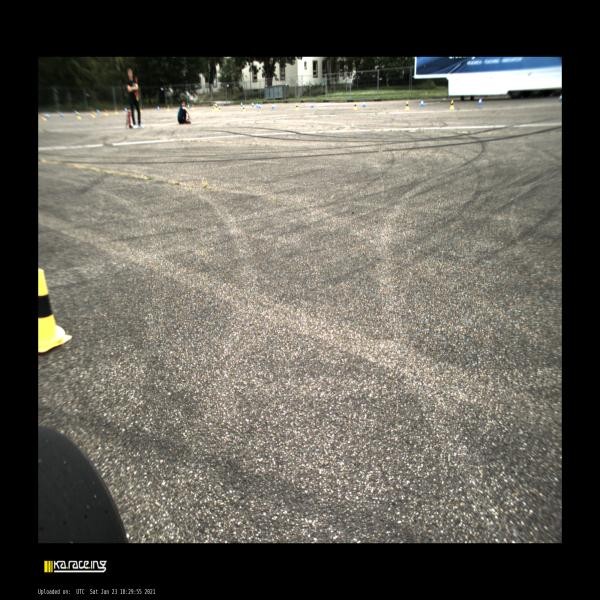blue_cone: (558, 93, 562, 102), (420, 99, 424, 107), (478, 98, 482, 105), (363, 100, 366, 107), (311, 101, 314, 108), (74, 110, 78, 115), (258, 103, 261, 109), (46, 113, 49, 119), (272, 102, 274, 109), (215, 102, 217, 108), (256, 102, 258, 108), (60, 112, 63, 116), (252, 102, 254, 107), (241, 102, 243, 107), (125, 107, 127, 112), (97, 109, 99, 114), (158, 106, 160, 110), (188, 104, 189, 109)
yellow_cone: (38, 269, 72, 352), (354, 101, 358, 110), (405, 101, 409, 110), (450, 100, 454, 109), (241, 105, 246, 112), (296, 103, 300, 110), (42, 114, 46, 120), (92, 111, 95, 118), (78, 113, 81, 119), (105, 110, 108, 116), (167, 105, 170, 111), (218, 106, 221, 112), (212, 106, 215, 112), (115, 109, 118, 114), (140, 106, 142, 112), (216, 104, 218, 110), (193, 104, 194, 110), (214, 103, 215, 109)
